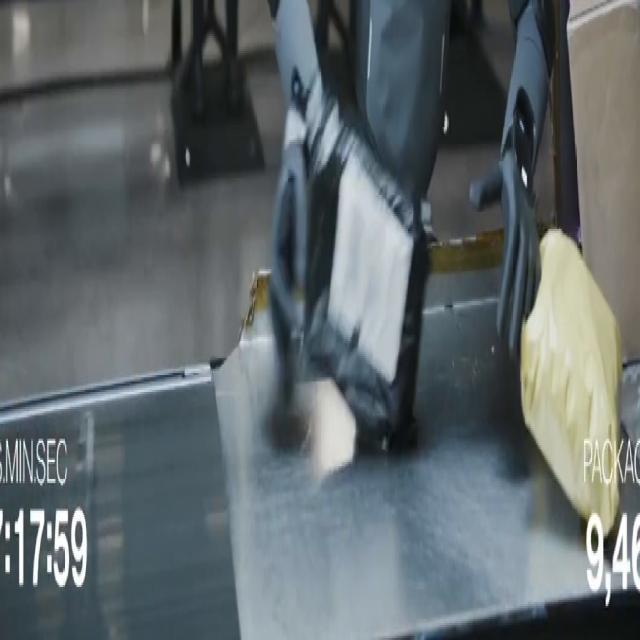package: (304, 100, 428, 449), (521, 229, 622, 536), (567, 0, 639, 360)
